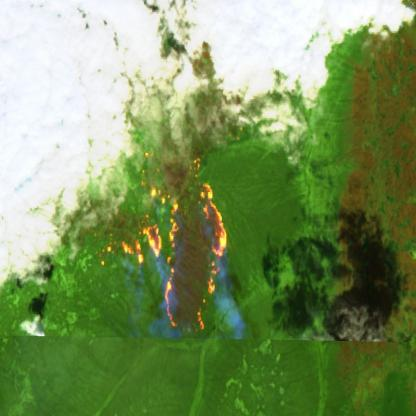fire: (98, 137, 231, 337)
